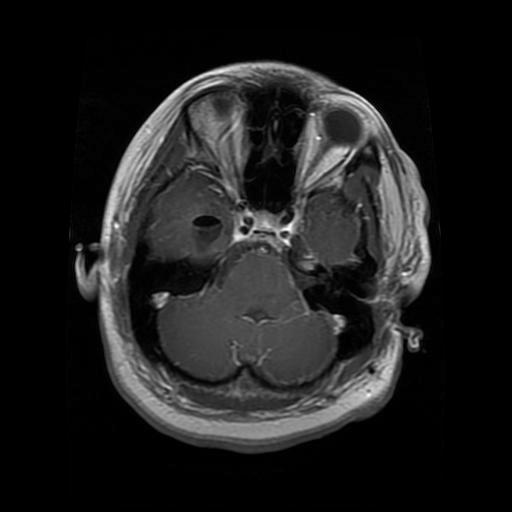Tumour-Glioma: (195, 200, 243, 267)
